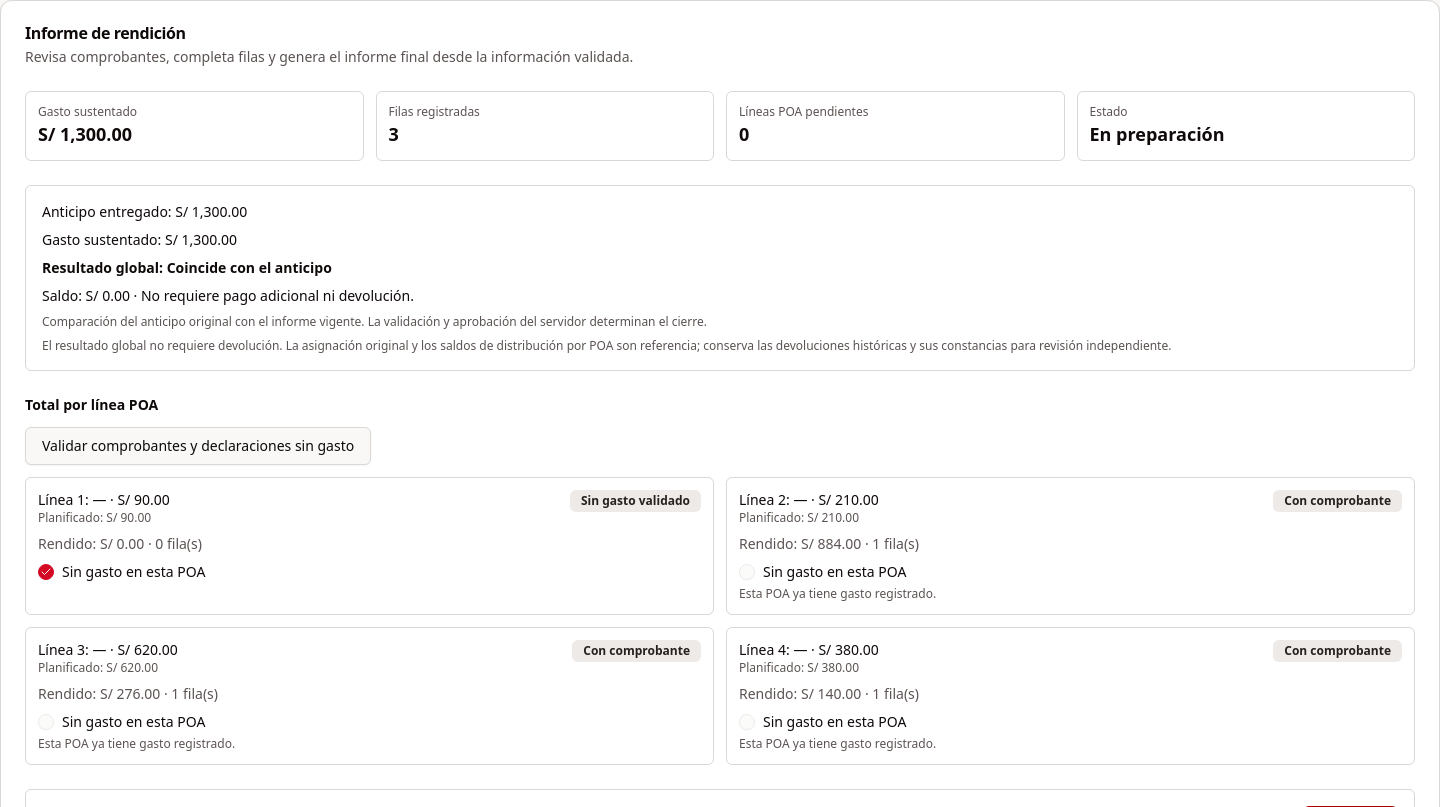
Scenario: ZERO card through real request hooks and fetch wrapper › shows global EXACT with a zero POA and marks explicit clear pending until canonical validation
The image size is (1440, 807).
Expected: the text "Resultado global: Coincide con el anticipo" is shown, [42,258,332,277]
Step 1. Click the checkbox named "Sin gasto en esta POA" below "Línea 1: — · S/ 90.00" → click(46, 572), box [38,564,54,580]
(page scrolled)
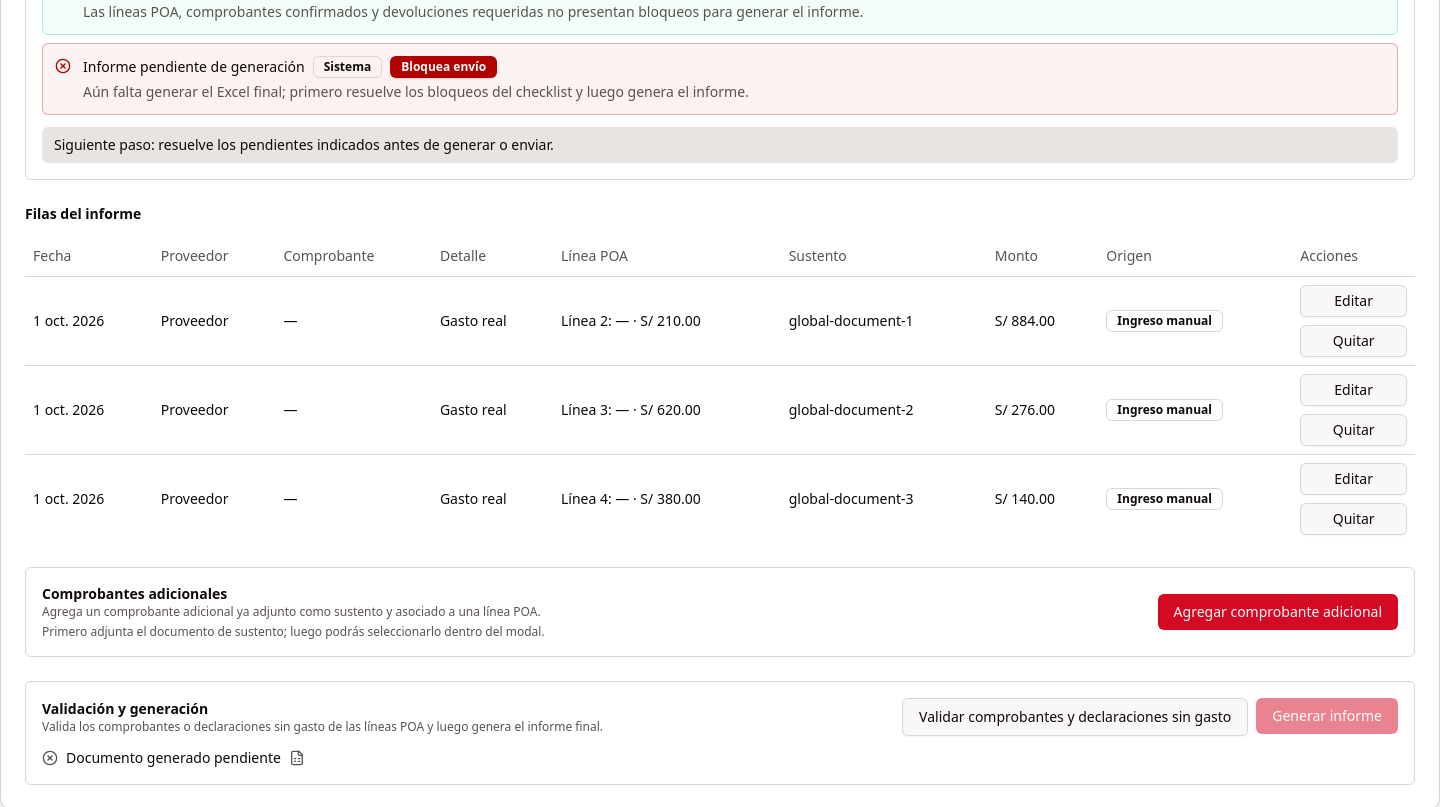
Result: the text "Resultado global: Coincide con el anticipo" is gone
Result: the button "Generar informe" is disabled at [1256,698,1398,734]
